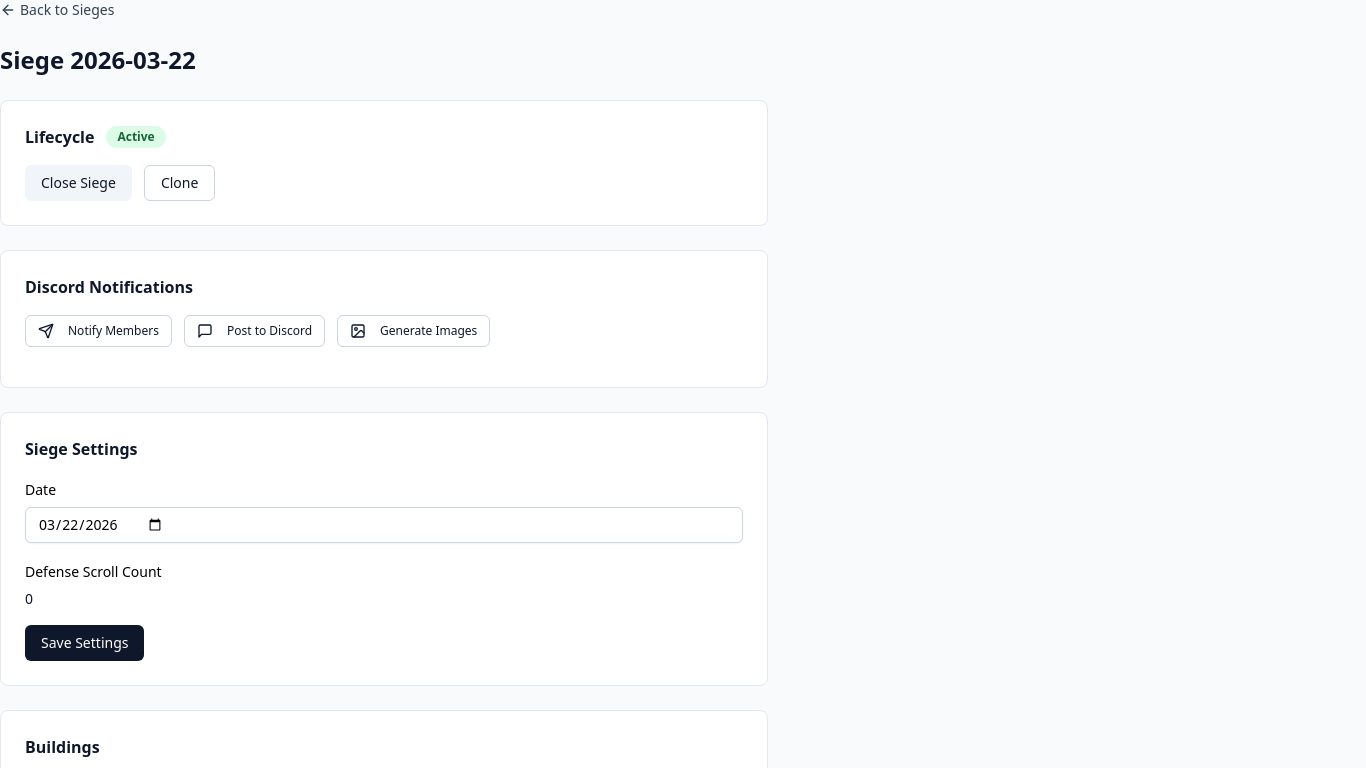
it: SiegeSettingsPage — Notify Members button › opens a confirmation dialog when the button is clicked
The image size is (1366, 768).
Click the button "Notify Members": click(98, 331) left=25, top=315, right=172, bottom=347
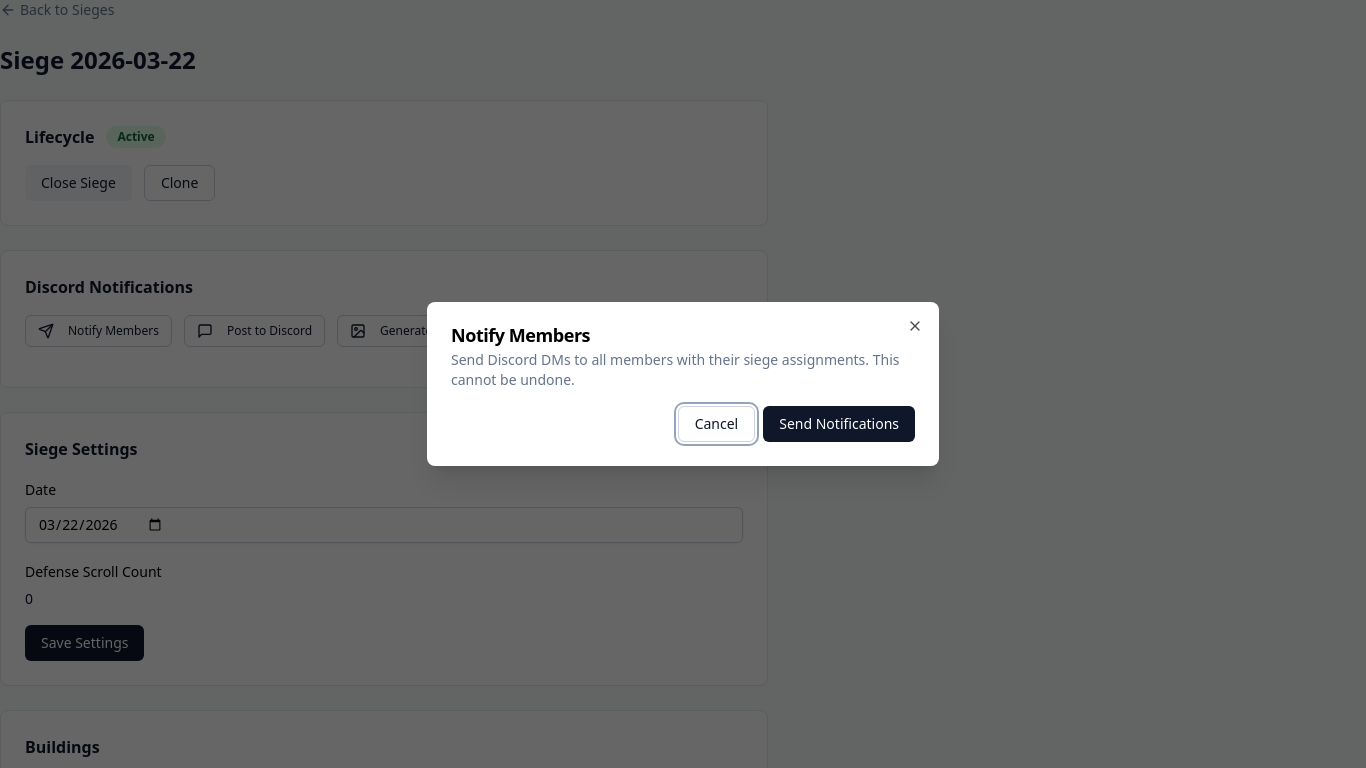
Result: the dialog is shown at left=427, top=302, right=939, bottom=466
Result: the heading "Notify Members" is shown at left=451, top=323, right=590, bottom=347
